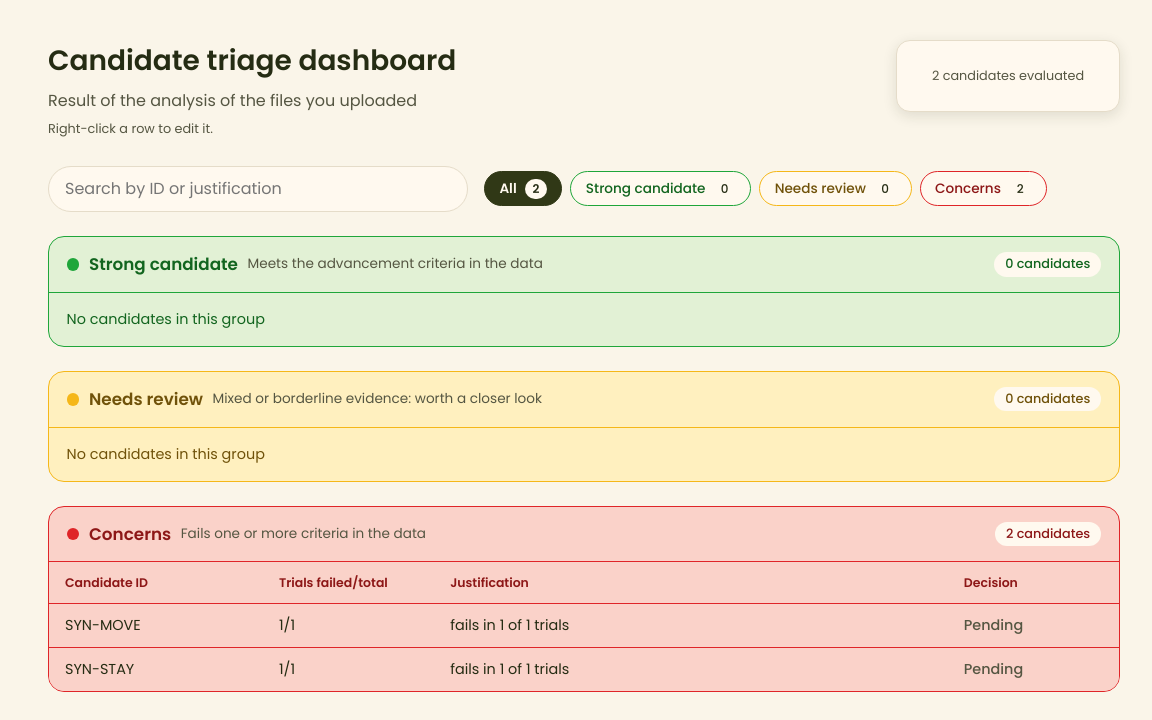
colour override and decision › saves an override from the engine reasons and moves only that row
Expected: the button with test id "filter-status-red" shows "2", [920,172,1047,206]
Expected: the button with test id "filter-status-amber" shows "0", [759,172,912,206]
Right-click the row with test id "candidate-row-SYN-MOVE" at (584, 625), box [49,603,1119,648]
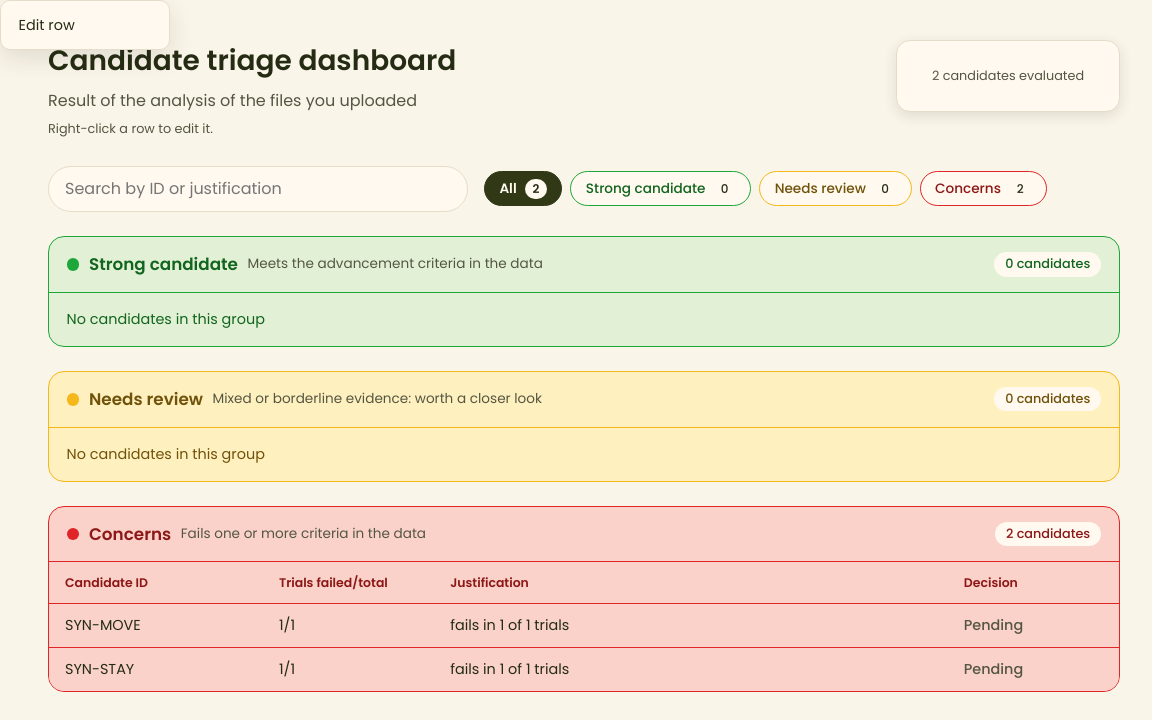
Click the menu item with test id "row-context-menu-edit" at (85, 25), box [6,6,164,44]
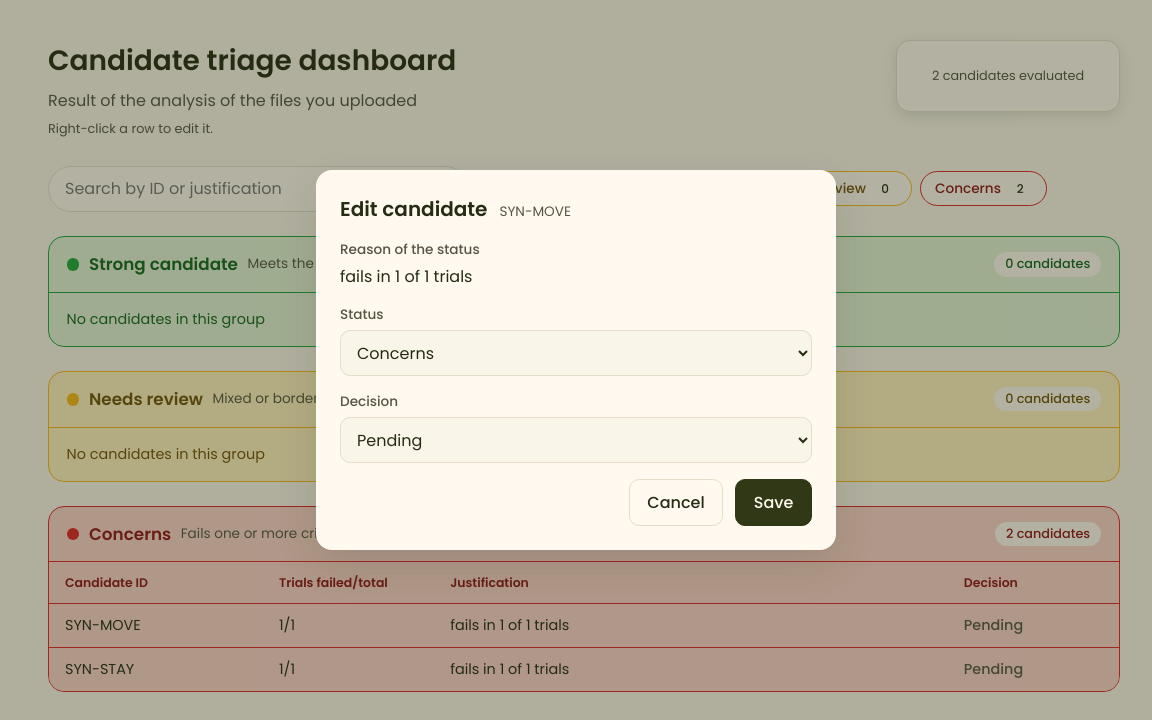
Select "Needs review" in the dropdown with test id "edit-status-select" at (576, 353), box [340,330,812,376]
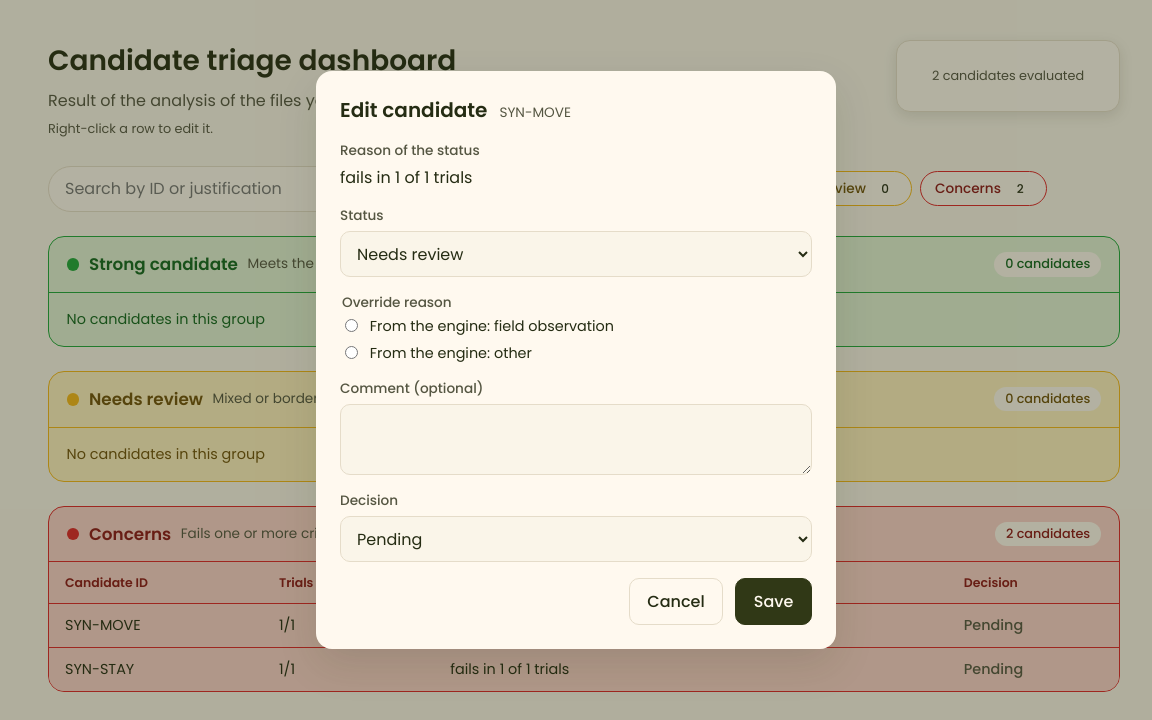
Result: the radio button labelled "From the engine: field observation" is shown at [345,319,358,332]
Select "Needs review" in the dropdown with test id "edit-status-select" at (576, 254), box [340,231,812,278]
Result: the element with test id "edit-override-reason-select" is shown at [342,294,614,363]
Click the radio button labelled "From the engine: field observation" at (352, 326), box [345,319,358,332]
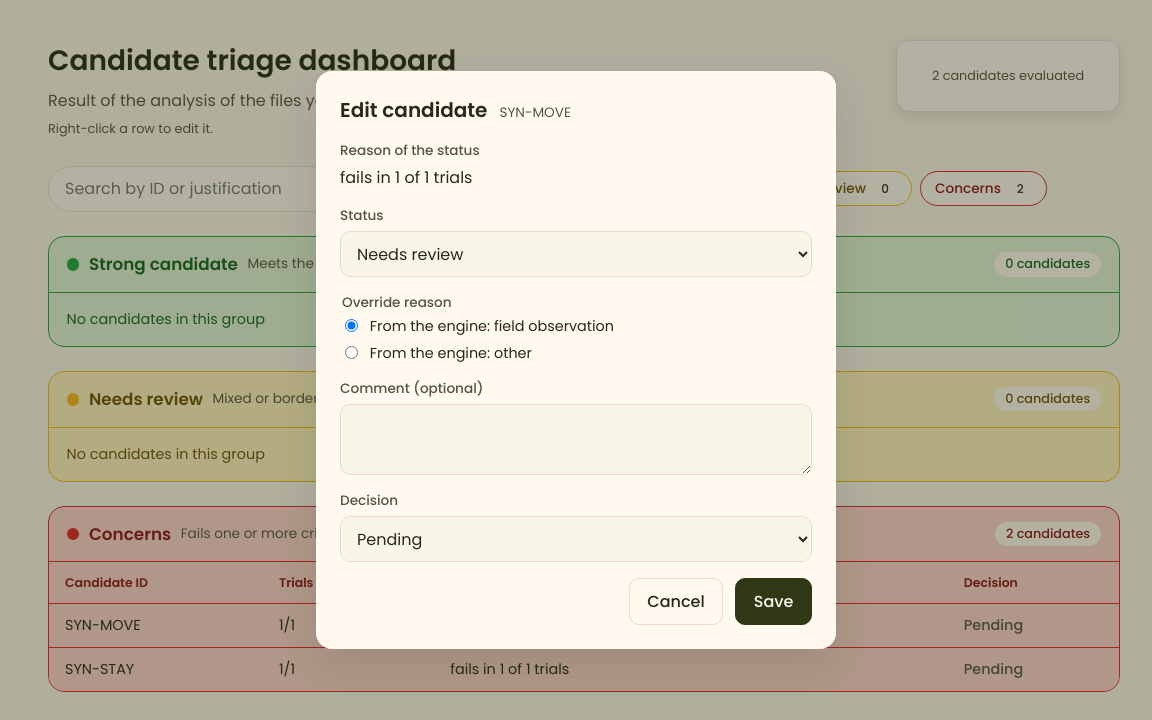
Type "good vigour in plot 12" into the text box with test id "edit-comment-input" at (576, 440), box [340,404,812,475]
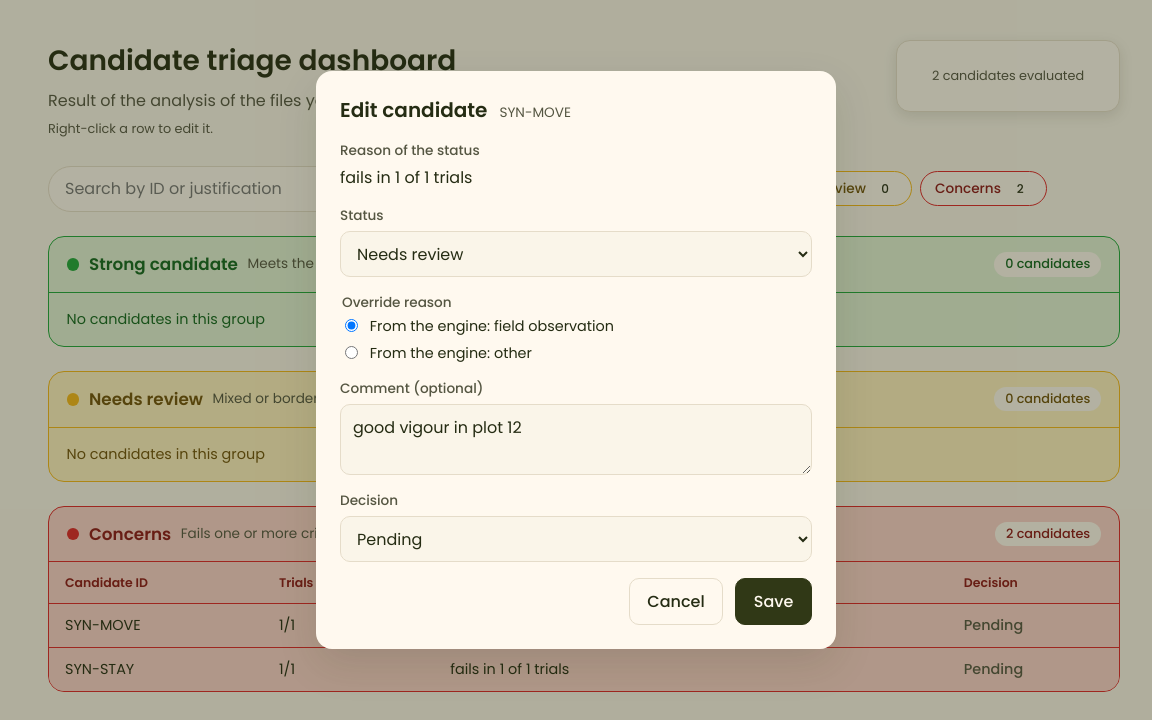
Click the button with test id "edit-save-button" at (774, 601), box [735,578,812,624]
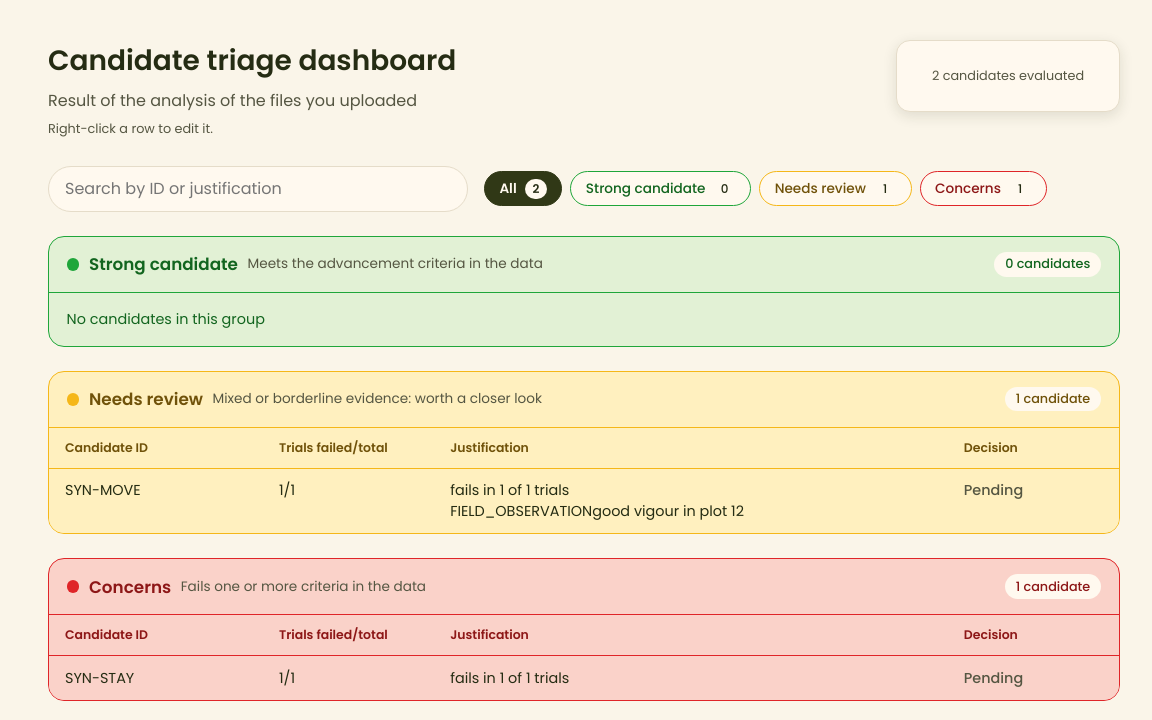
Result: the element with test id "breeder-override-SYN-MOVE" shows "FIELD_OBSERVATION" at [450,501,592,521]
Result: the element with test id "breeder-override-SYN-MOVE" shows "good vigour in plot 12" at [592,501,744,521]
Result: the button with test id "filter-status-red" shows "1" at [920,172,1047,206]
